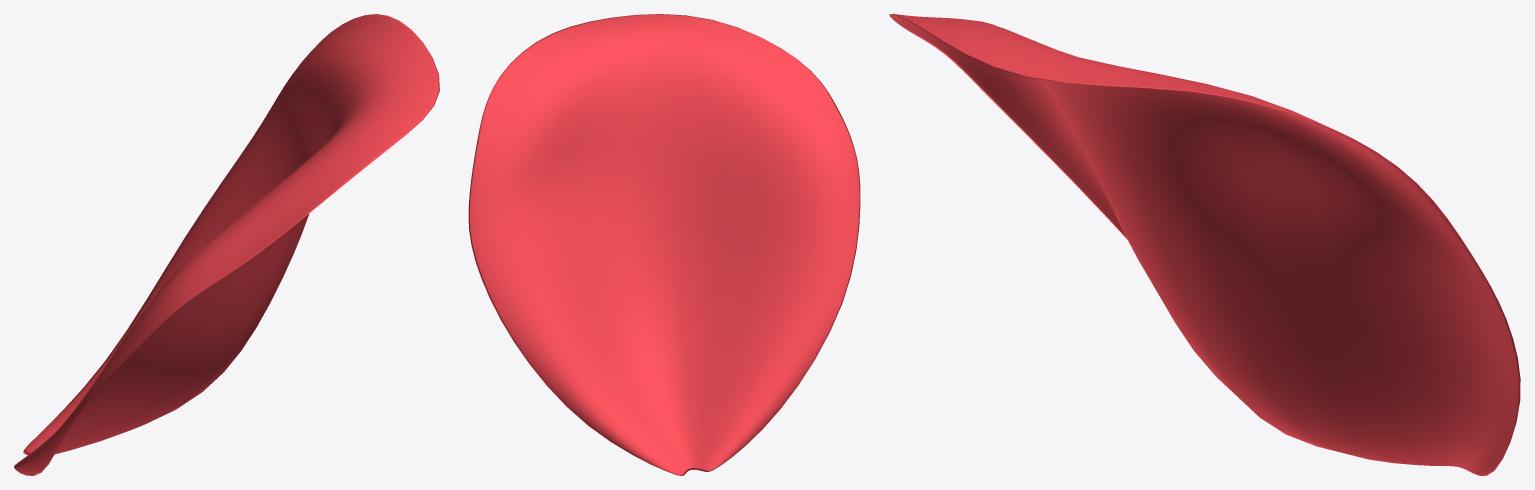
File: rose.fbx
The picture shows the model from 3 angles, left to right: view 1: azimuth 30°, elevation 25°; view 2: azimuth 150°, elevation 25°; view 3: azimuth 270°, elevation 25°; orthographic projection. The views are drawn at different scales.
Parts seen in each view (by area): view 1: rose3_5.006; view 2: rose3_5.006; view 3: rose3_5.006.
Part boxes in pixels (x1,y1,x2,y2): rose3_5.006: (14, 14, 439, 475); rose3_5.006: (468, 14, 860, 475); rose3_5.006: (889, 14, 1520, 475).
Bounding box in the file's own units: 230 × 249 × 254.
